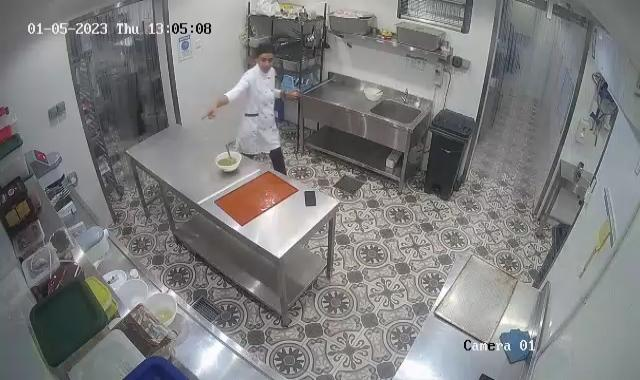no_hairnet: (256, 40, 278, 59)
